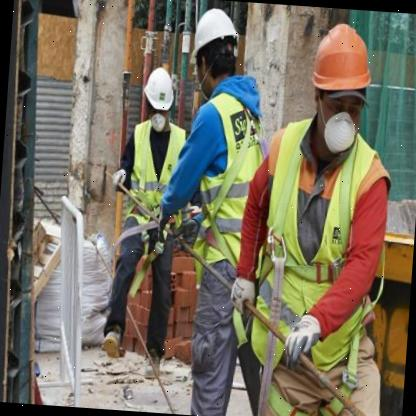bota: (102, 310, 130, 358), (140, 342, 166, 379)
capacete: (304, 18, 378, 156), (187, 6, 243, 98), (139, 66, 176, 128)
